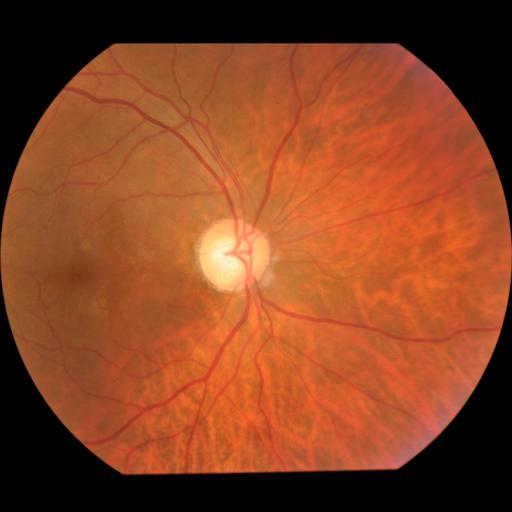Optic Cup: (209, 234, 249, 280)
Optic Disc: (197, 219, 270, 294)
